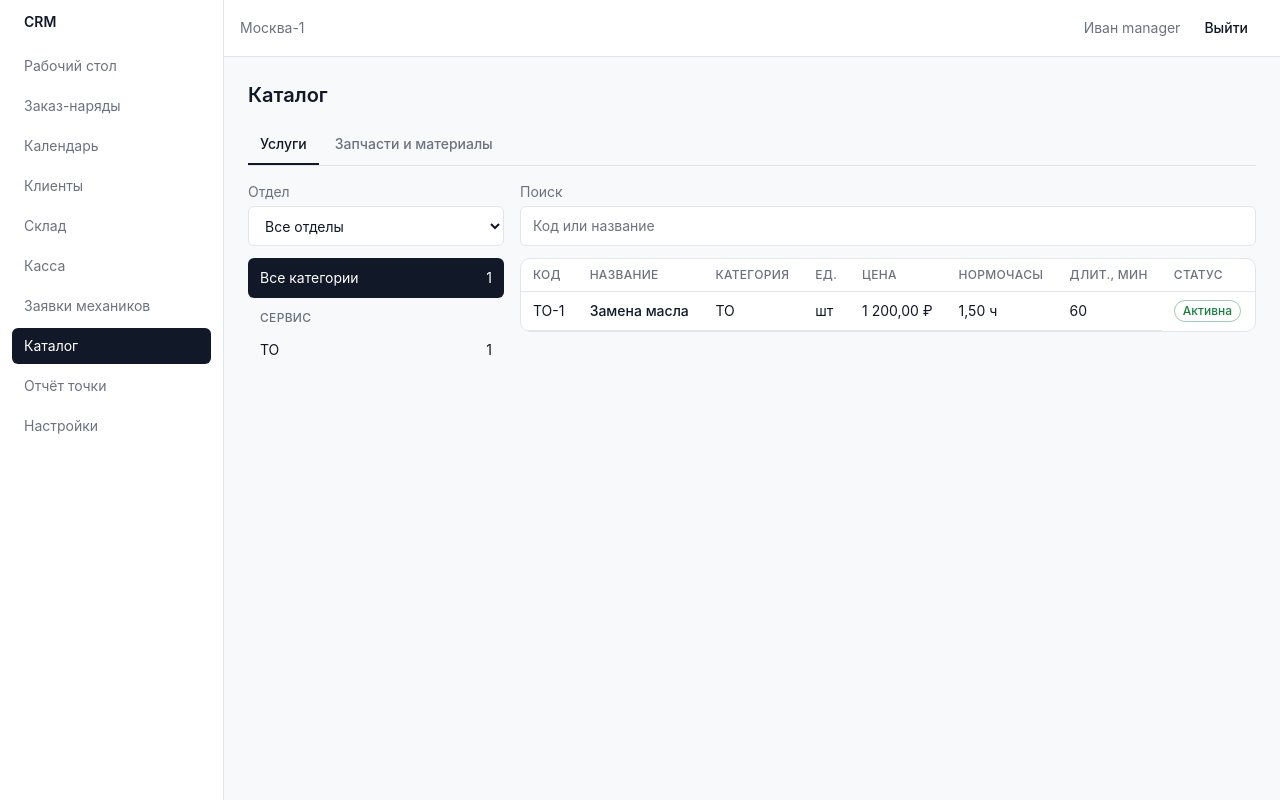
Test case: права › менеджер: только «Услуги» и «Запчасти», без кнопок правки, запрос с location_id
Expected: the text "Замена масла" is shown, x1=590 y1=302 x2=689 y2=319
Expected: the tab "Услуги" is shown, x1=248 y1=125 x2=319 y2=165
Click the tab "Запчасти и материалы" at (414, 145), box x1=323 y1=125 x2=505 y2=165
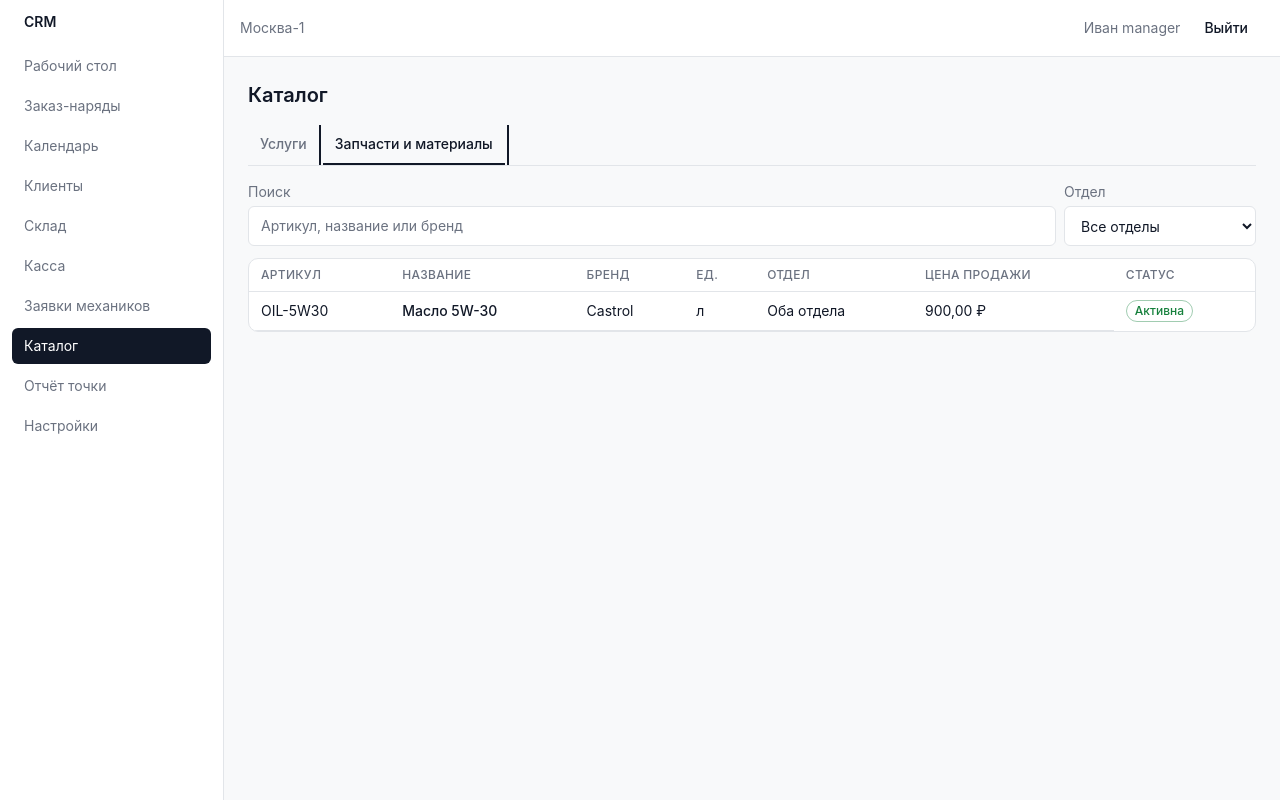
Now the text "Масло 5W-30" is shown, box x1=402 y1=302 x2=497 y2=319
